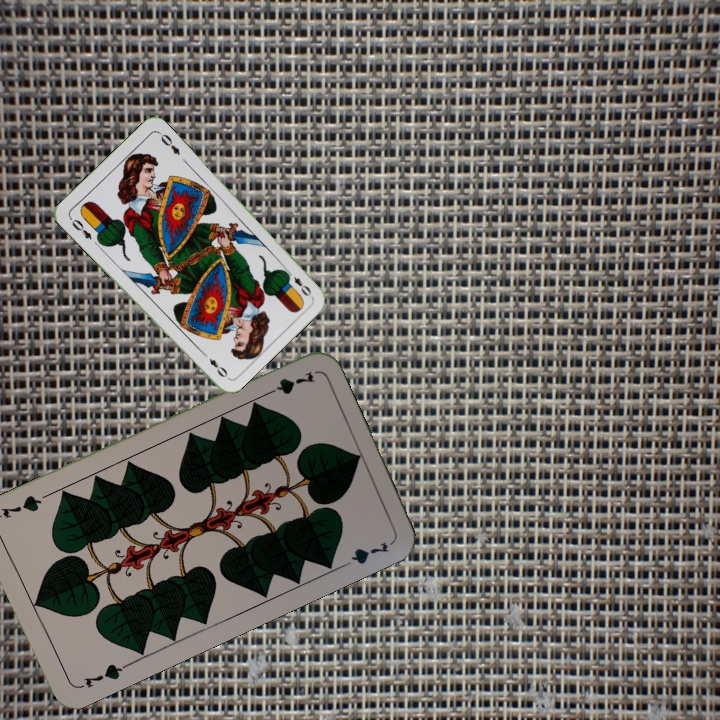EO: (282, 266, 314, 299), (66, 213, 95, 242)
G7: (260, 366, 317, 399), (75, 659, 131, 692)
